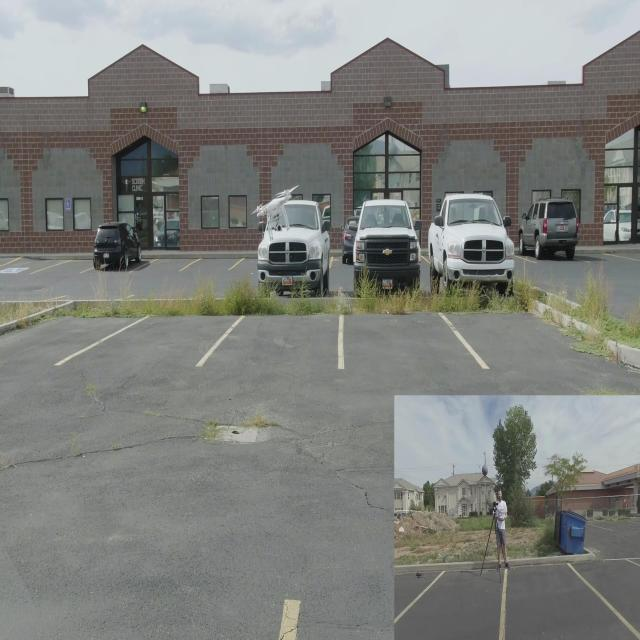drone: (253, 180, 301, 239)
